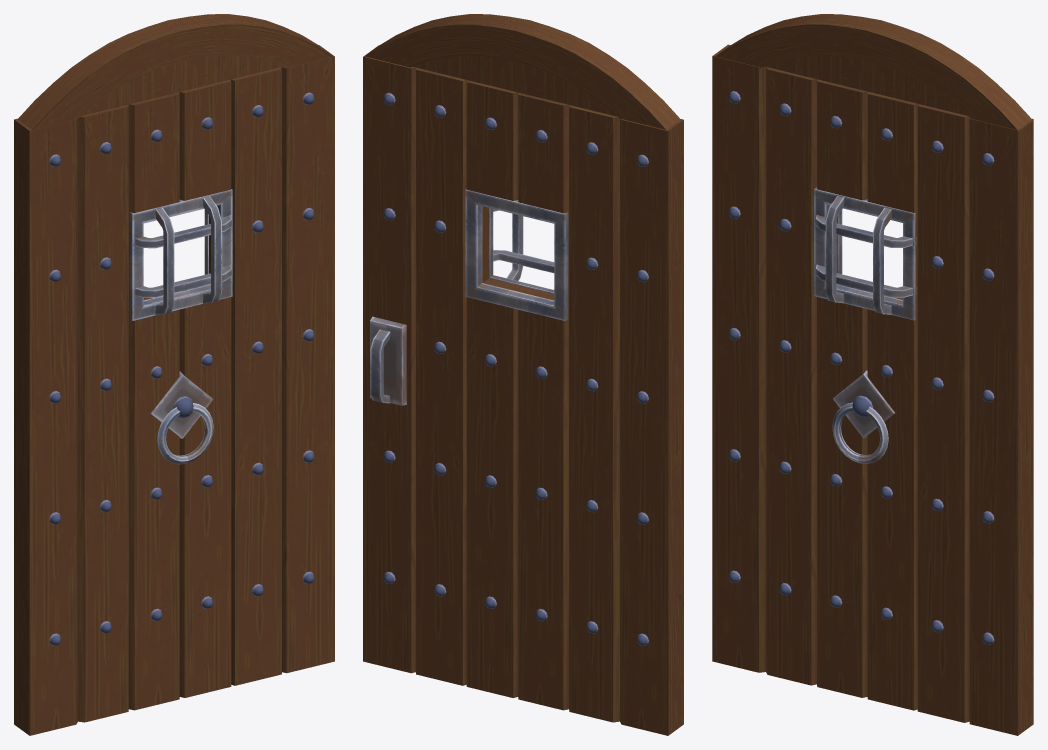
File: Door_2_Round.glb
3 renders of one model, left to right at view 1: azimuth 30°, elevation 25°; view 2: azimuth 150°, elevation 25°; view 3: azimuth 330°, elevation 25°, orthographic.
Visible parts, largest first — view 1: Door_2_Round; view 2: Door_2_Round; view 3: Door_2_Round.
Part boxes in pixels (x1=…): Door_2_Round: x1=14, y1=14, x2=334, y2=735; Door_2_Round: x1=363, y1=14, x2=683, y2=735; Door_2_Round: x1=712, y1=14, x2=1033, y2=735.
Size of the model in its own units: 1.12 by 2.33 by 0.2609.
Materials: 2 (2 with a texture image).
